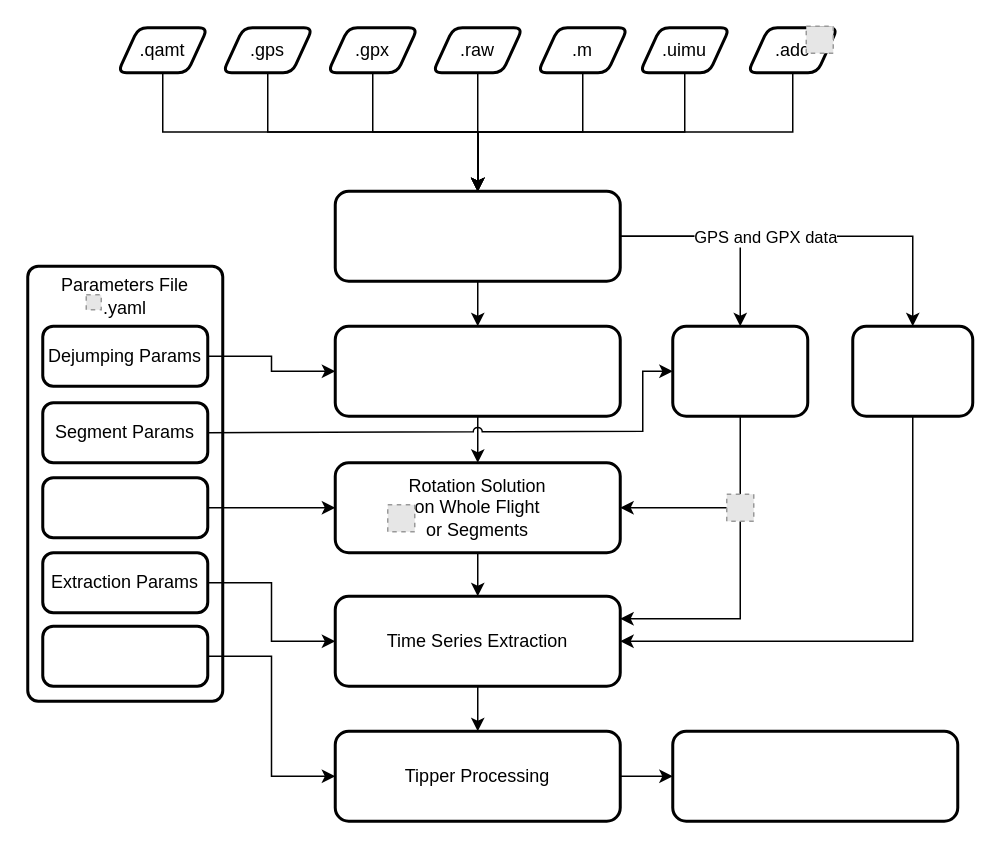
This 999x849 diagram has some shape labels left out. Grey dashed boxes stand in for pictures. Each missing label, with the centre of its shape:
"Flux Jump Correction on Whole Flight" goes at (x=477, y=370).
"Grid Preparation" goes at (x=912, y=370).
"Line Segmentation" goes at (x=739, y=370).
"Load Raw Data and Create .h5" goes at (x=477, y=235).
"Rotation Params" goes at (x=124, y=507).
"Tipper Params" goes at (x=124, y=655).
"Transfer Function Per Station" goes at (x=814, y=775).
